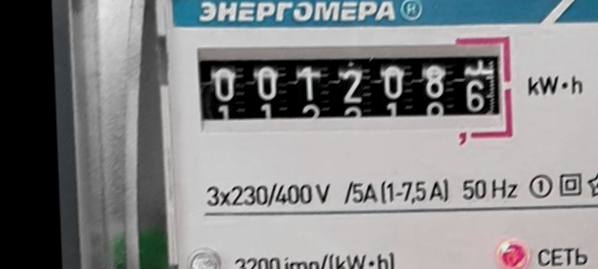0: (208, 62, 235, 102), (252, 62, 277, 100), (377, 62, 402, 98)
1: (294, 62, 316, 102)
2: (336, 65, 363, 104)
6: (459, 75, 484, 112)
8: (418, 61, 444, 99)
screen: (187, 27, 520, 154)
